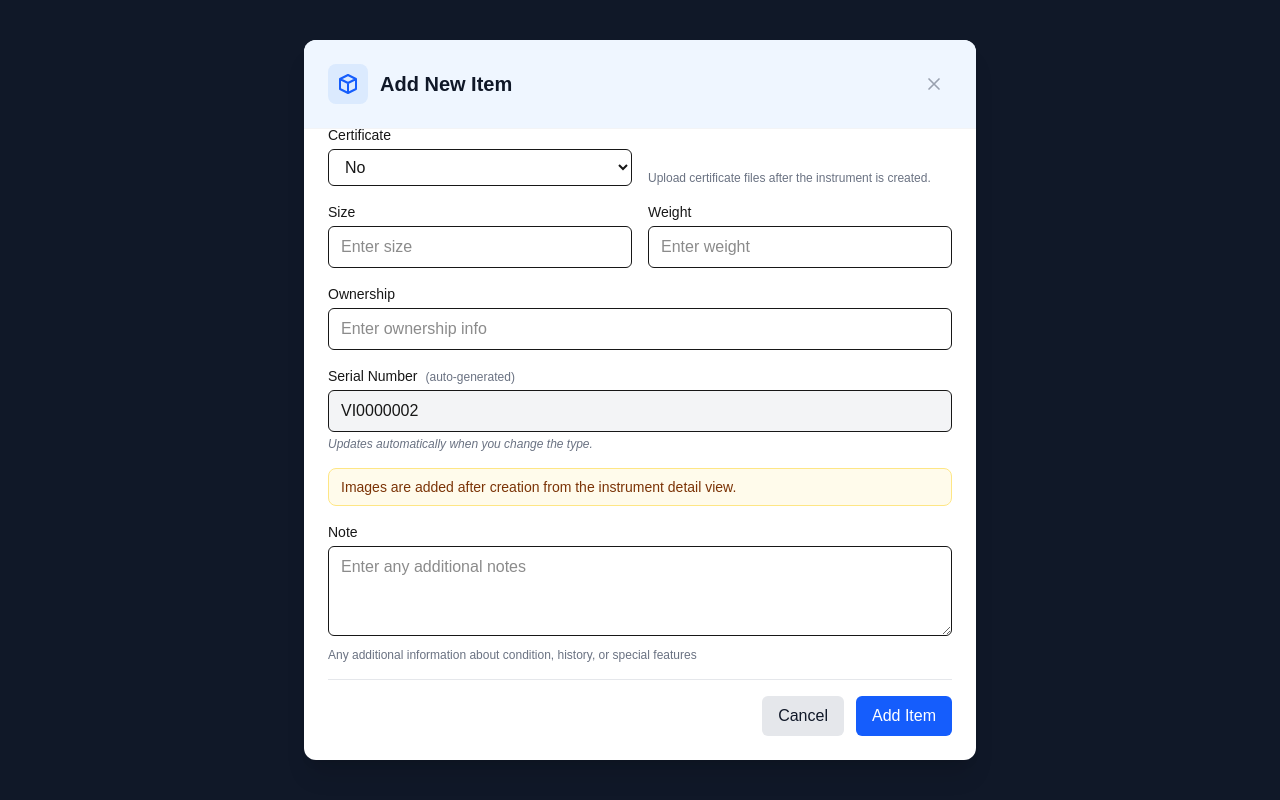
it: ItemForm › shows error UI when create fails after serial conflict (API error)
(page scrolled)
Click the button "Add Item" at [904, 716], box [856,696,952,736]
(page scrolled)
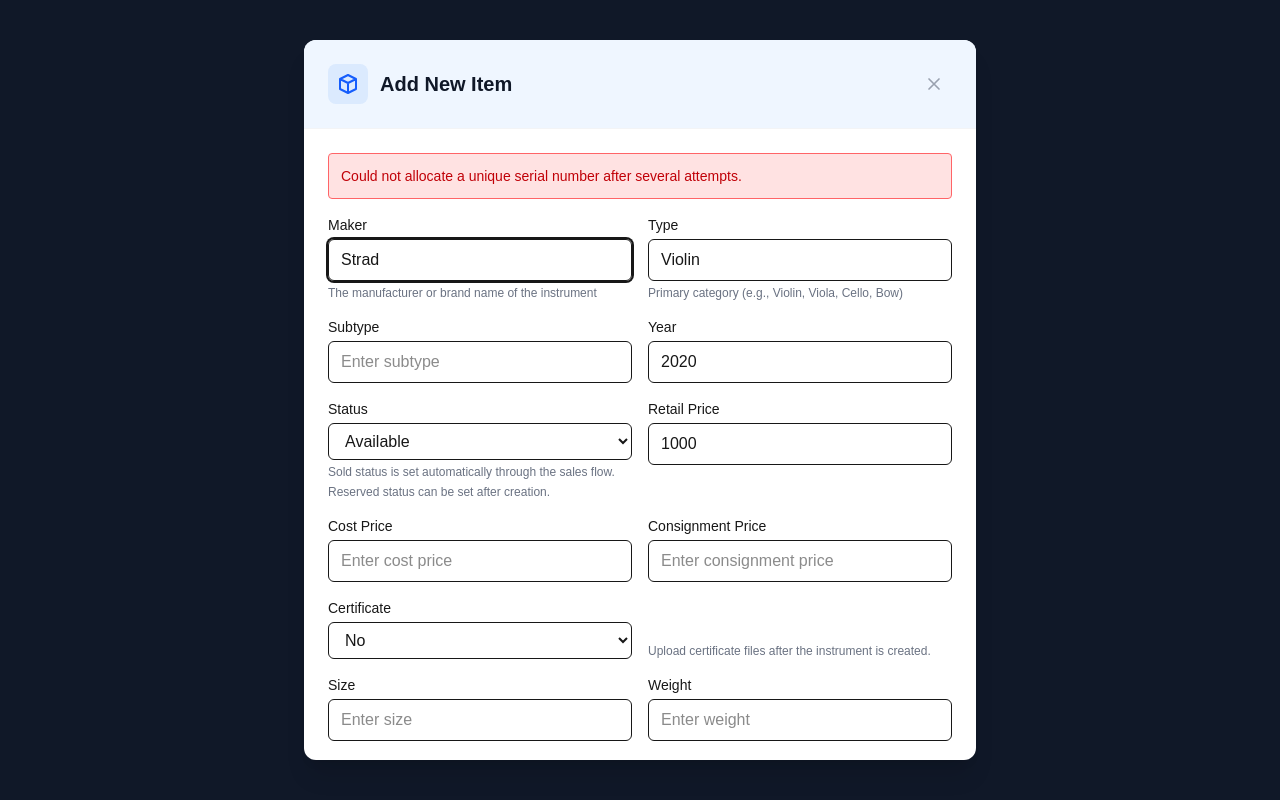
Check: the text "unique serial number" is shown, box [341,168,742,184]
